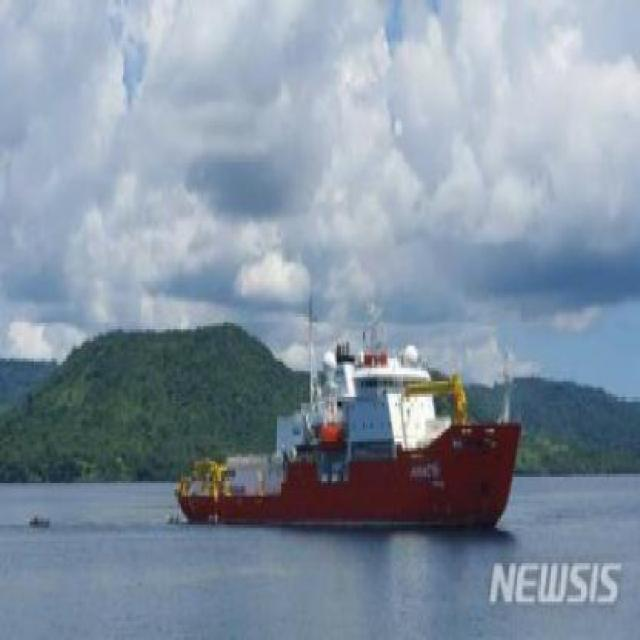fish-b: (167, 276, 530, 549)
